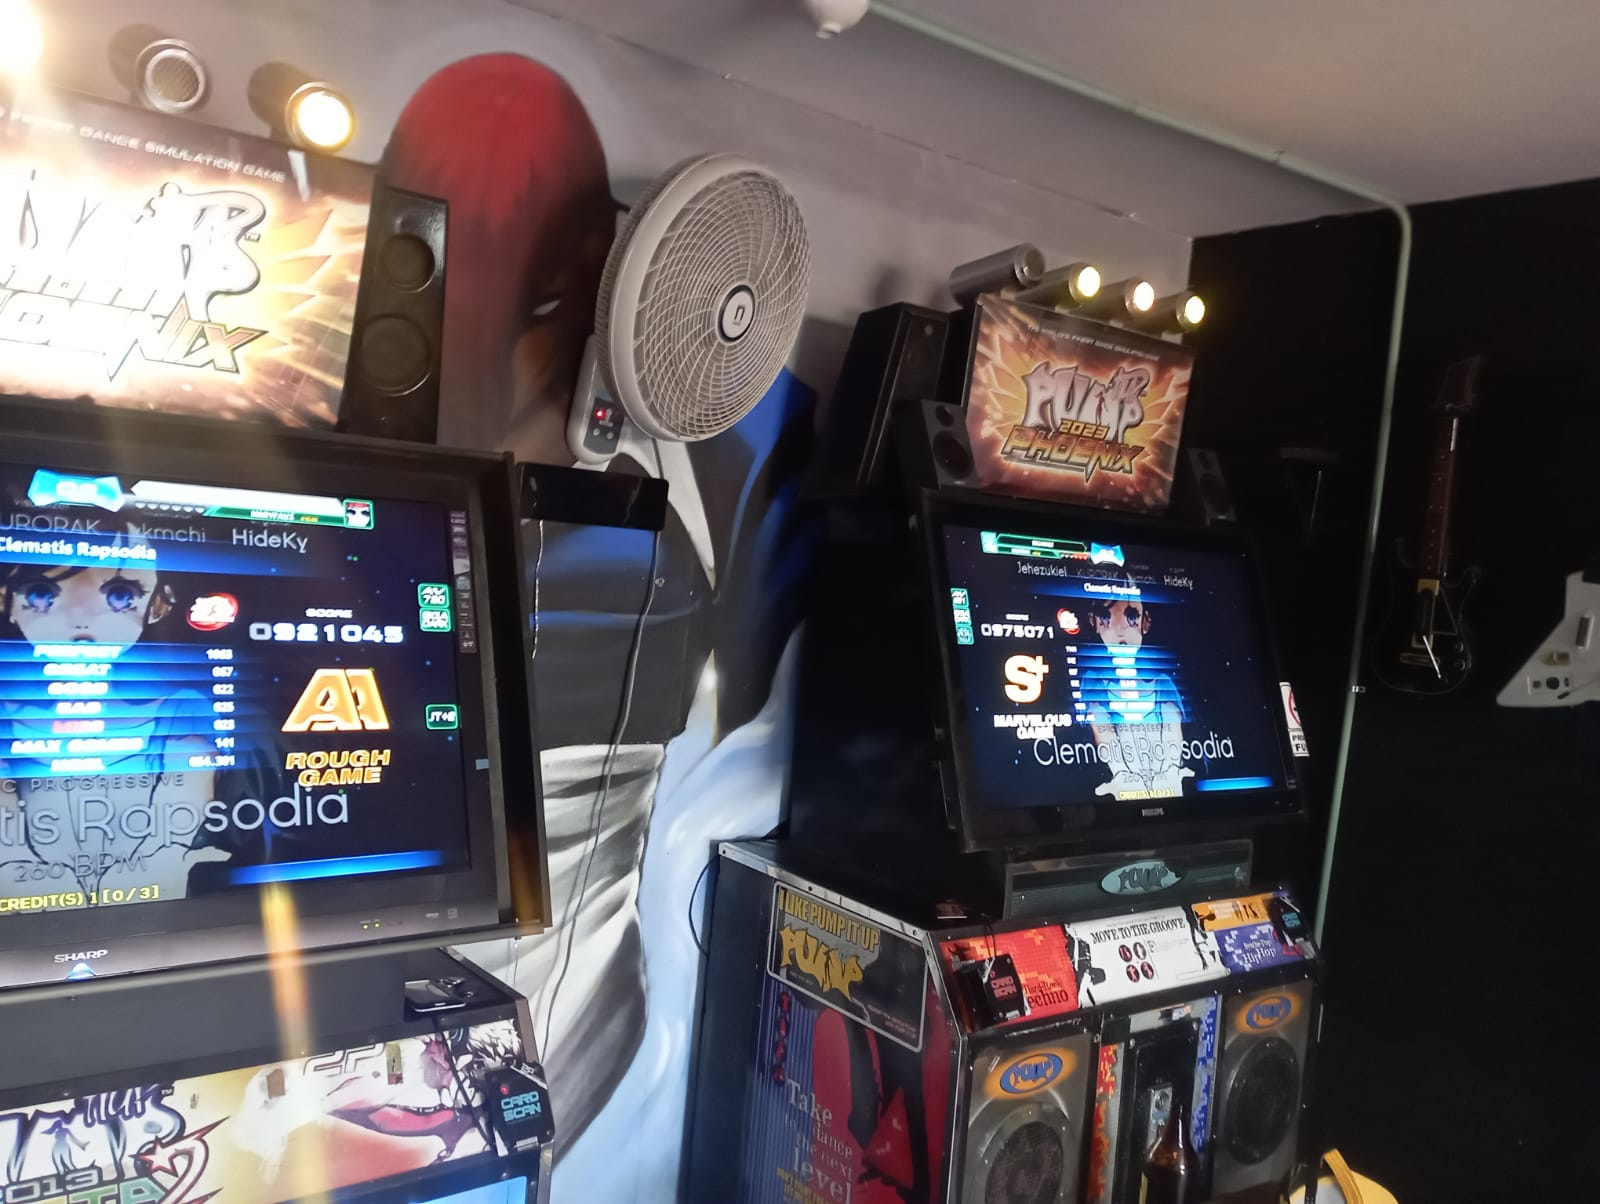difficulty: (191, 591, 238, 637), (1060, 608, 1080, 632)
fullscore: (0, 491, 467, 875), (955, 550, 1300, 799)
rank: (261, 664, 409, 779), (1003, 651, 1052, 706)
score: (245, 596, 407, 648), (983, 613, 1052, 642)
song_name: (0, 529, 287, 580), (1060, 578, 1180, 602)
